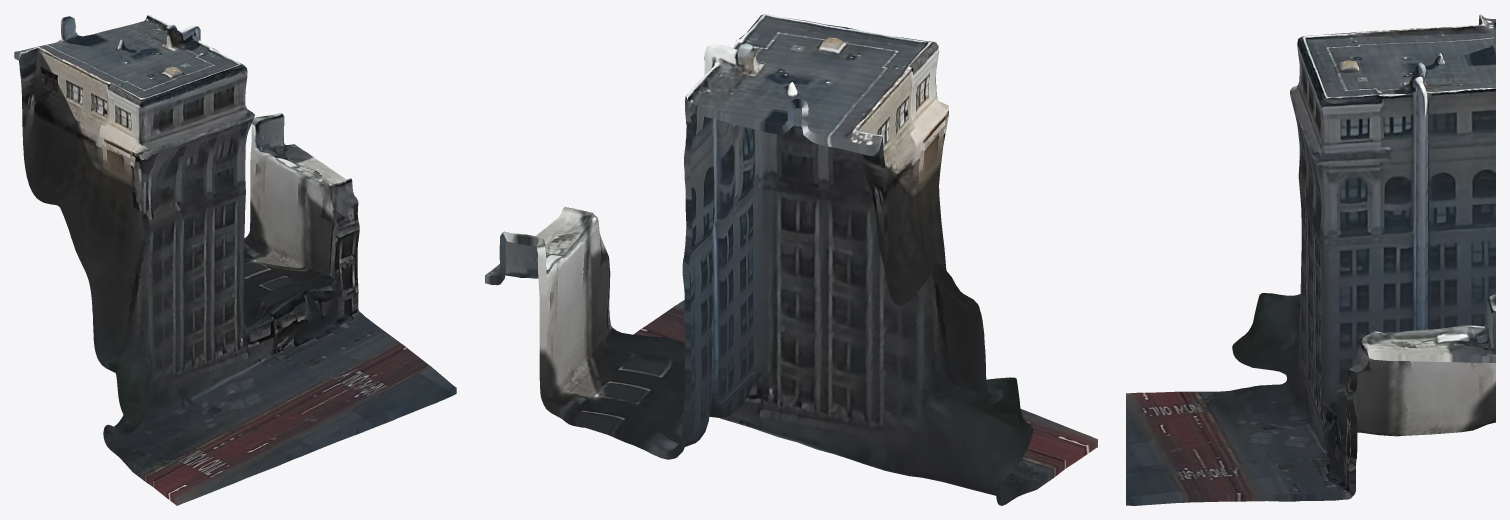
Rendered from z20-167746-405242-h0-yup-uvflip-v3-world.glb.
3 renders of one model, left to right at view 1: azimuth 30°, elevation 25°; view 2: azimuth 150°, elevation 25°; view 3: azimuth 270°, elevation 25°, orthographic. The views are drawn at different scales.
Bounding box in the file's own units: 30.16 × 36.8 × 30.32.
Materials: 1 (1 with a texture image).
